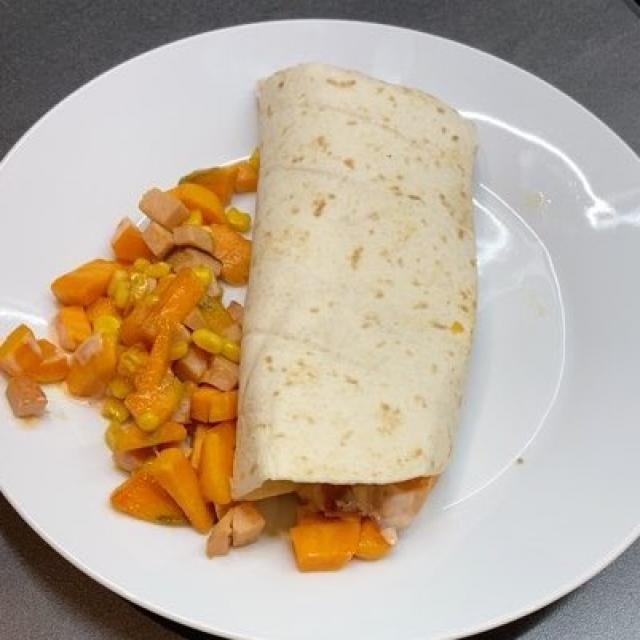bread: (226, 60, 489, 524)
sweet-corn-canned: (94, 246, 225, 445)
sweet-potato: (31, 177, 388, 557)
